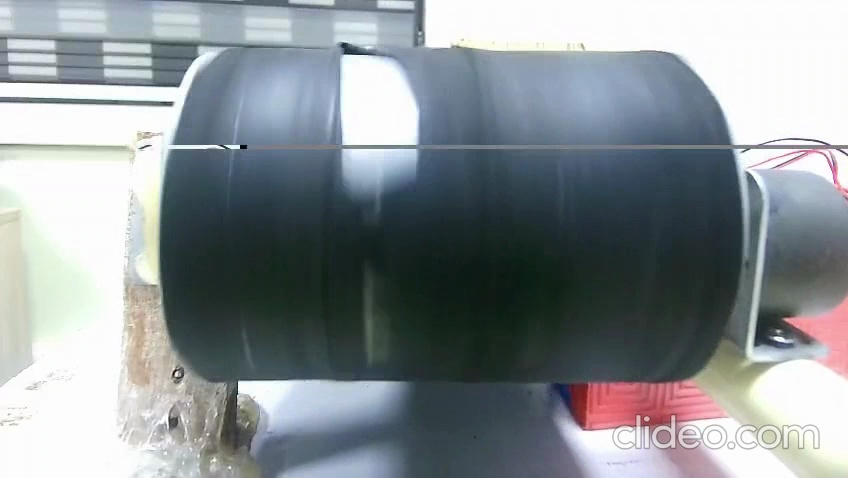hole: (326, 40, 437, 191)
